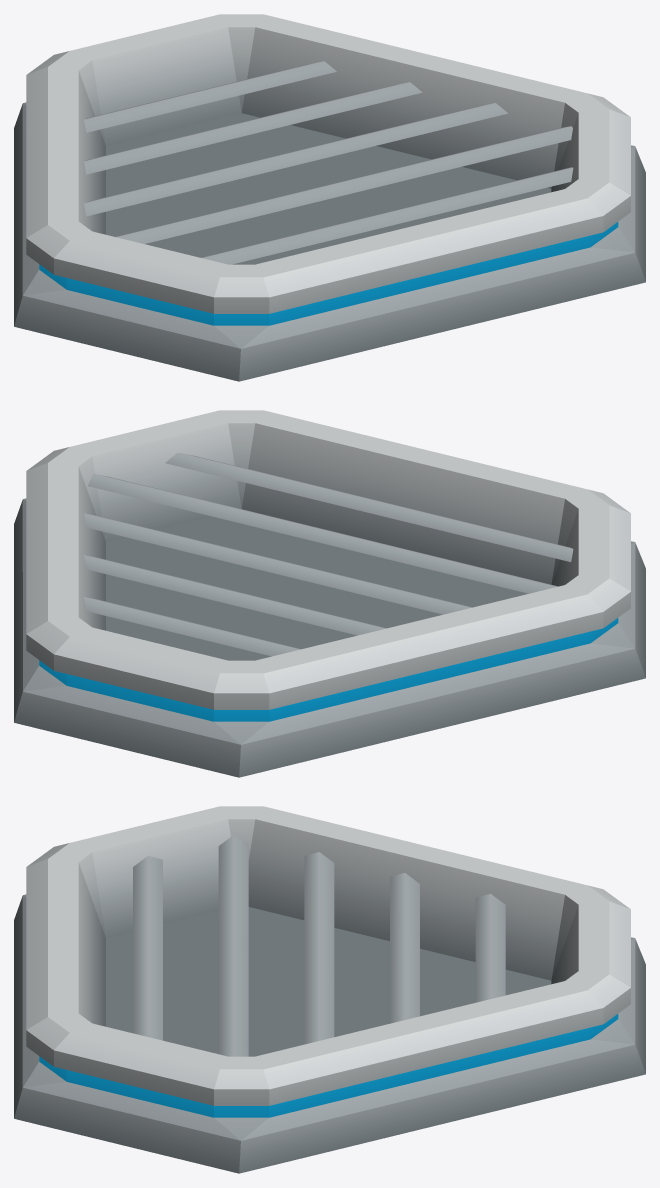
The model's file is Ventilation_004.glb.
3 renders of one model, top to bottom at view 1: azimuth 30°, elevation 25°; view 2: azimuth 150°, elevation 25°; view 3: azimuth 270°, elevation 25°, orthographic.
Parts seen in each view (by area): view 1: Ventilation_004; view 2: Ventilation_004; view 3: Ventilation_004.
Part boxes in pixels (<box>): Ventilation_004: <box>14,14,645,381</box>; Ventilation_004: <box>14,410,645,777</box>; Ventilation_004: <box>14,806,645,1173</box>.
Size of the model in its own units: 1.47 by 0.181 by 1.27.
2 materials, 2 textured.
